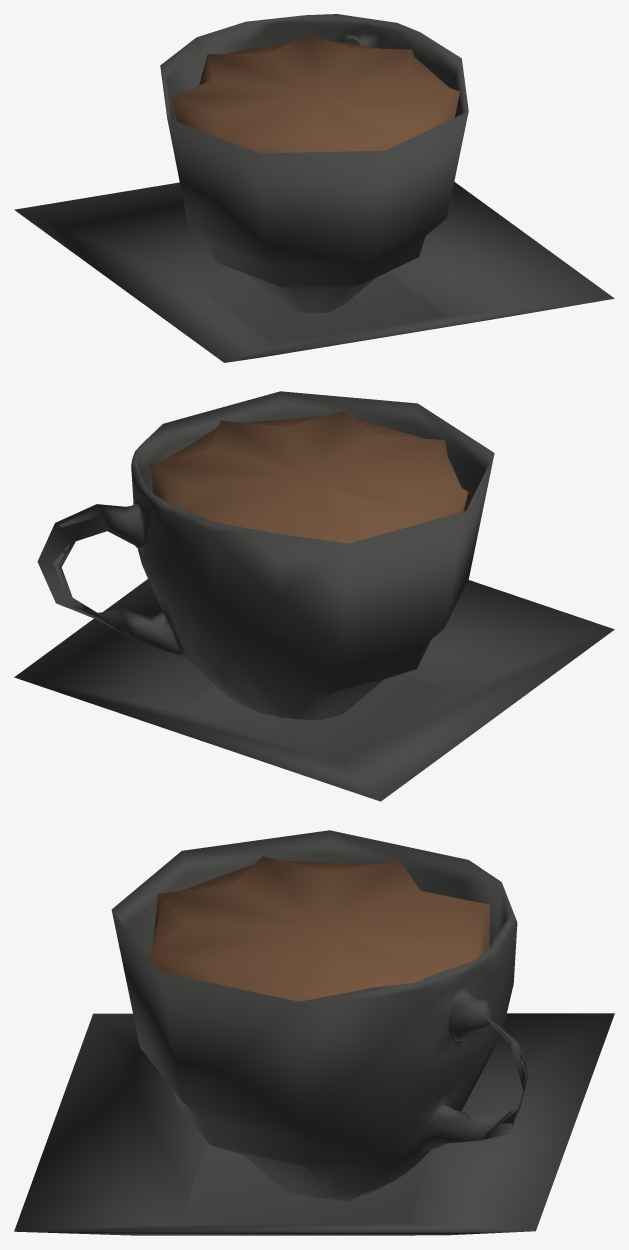
The model's file is cup of coffe.fbx.
The picture shows the model from 3 angles, top to bottom: view 1: azimuth 30°, elevation 25°; view 2: azimuth 150°, elevation 25°; view 3: azimuth 270°, elevation 25°; orthographic projection. The views are drawn at different scales.
Visible parts, largest first — view 1: Cup, Plate, Liquid; view 2: Cup, Plate, Liquid; view 3: Cup, Plate, Liquid.
Part boxes in pixels (left/top/right/bottom): Cup: left=160, top=14, right=468, bottom=313; Plate: left=14, top=182, right=614, bottom=362; Liquid: left=171, top=34, right=459, bottom=153; Cup: left=37, top=391, right=494, bottom=720; Plate: left=14, top=579, right=614, bottom=801; Liquid: left=150, top=410, right=468, bottom=543; Cup: left=111, top=830, right=528, bottom=1201; Plate: left=14, top=1013, right=614, bottom=1235; Liquid: left=147, top=856, right=489, bottom=1001.
Size of the model in its own units: 23.47 by 14.01 by 27.29.
